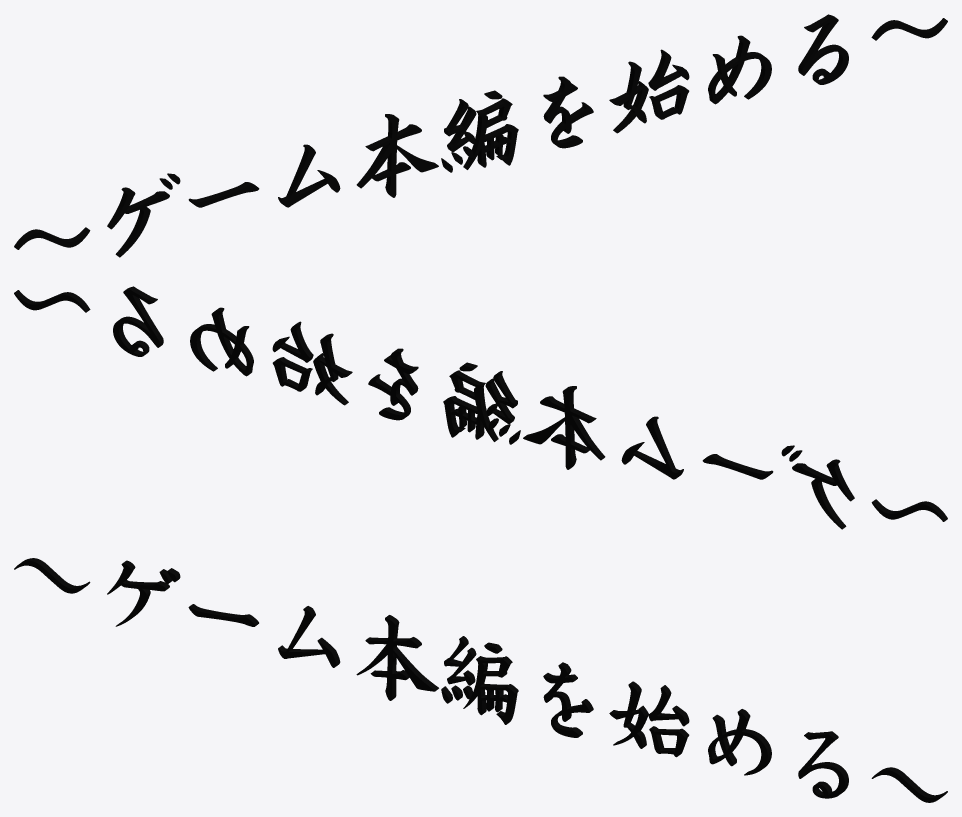
File: select2.obj
3 views of the same model, one above another, from view 1: azimuth 30°, elevation 25°; view 2: azimuth 150°, elevation 25°; view 3: azimuth 330°, elevation 25° (orthographic).
Visible parts, largest first — view 1: テキスト.003; view 2: テキスト.003; view 3: テキスト.003.
Boxes of the visible parts, bbox=[...] form: テキスト.003: bbox=[14, 14, 947, 257]; テキスト.003: bbox=[14, 286, 947, 529]; テキスト.003: bbox=[14, 558, 947, 802].
Bounding box in the file's own units: 82.52 × 6.96 × 0.6064.
Materials: 1 (1 with a texture image).
